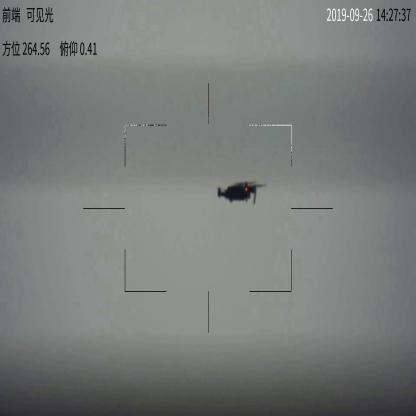uav: (210, 180, 263, 205)
